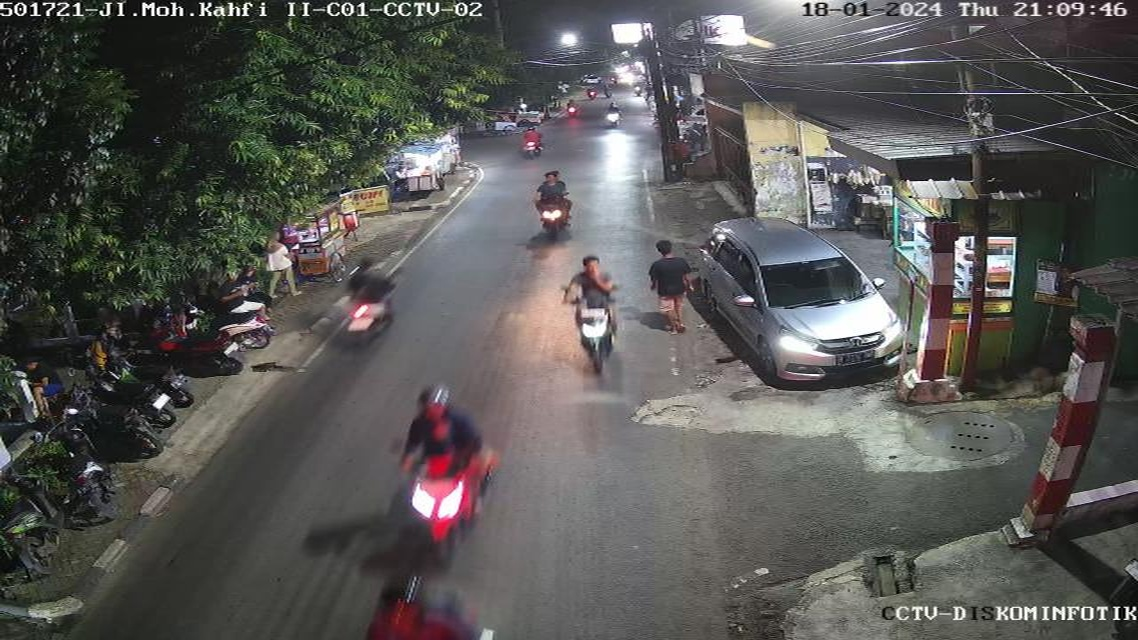Gerobak: (242, 200, 359, 288), (395, 145, 448, 193), (477, 100, 528, 139), (425, 130, 464, 171)
